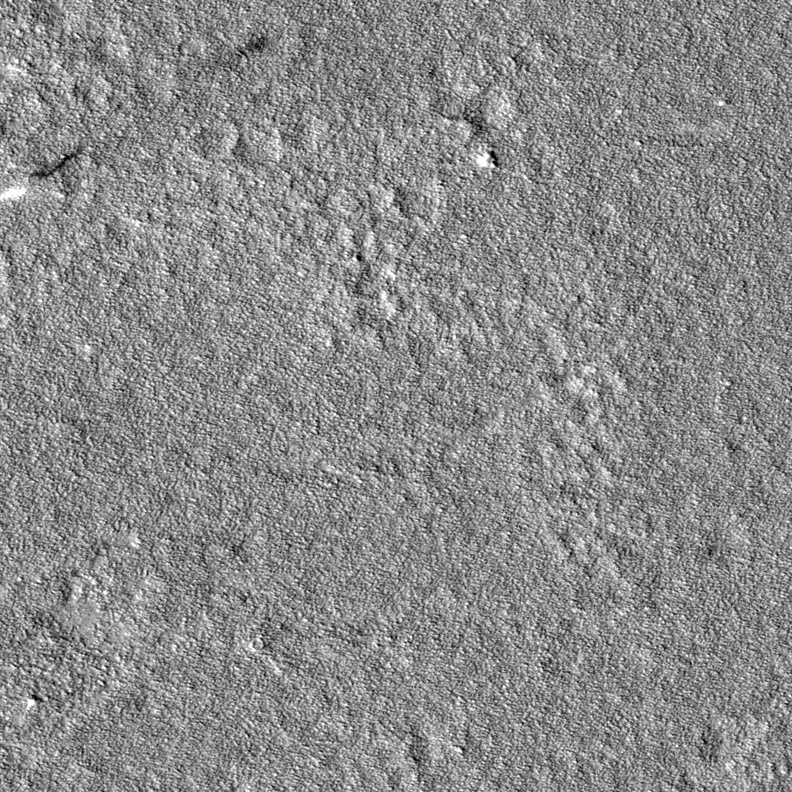dust_devil: (1, 144, 85, 200)
